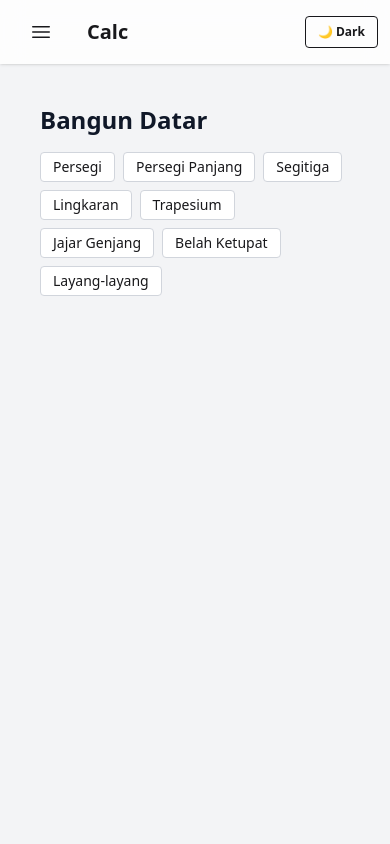
Test case: App › opens mobile drawer navigation and closes after selecting a page
Click the checkbox named "Buka menu": x=41, y=32 [12, 12, 70, 52]
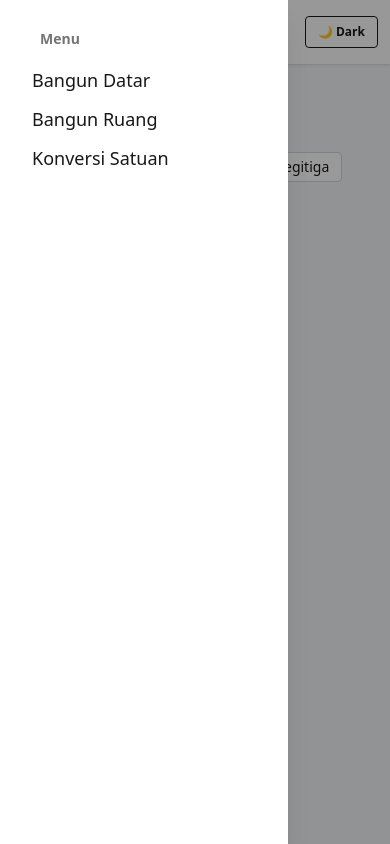
Now the checkbox with id "mobile-nav-drawer" is checked, box [12, 12, 70, 52]
Click the checkbox "Bangun Ruang": x=95, y=119 [32, 107, 158, 131]
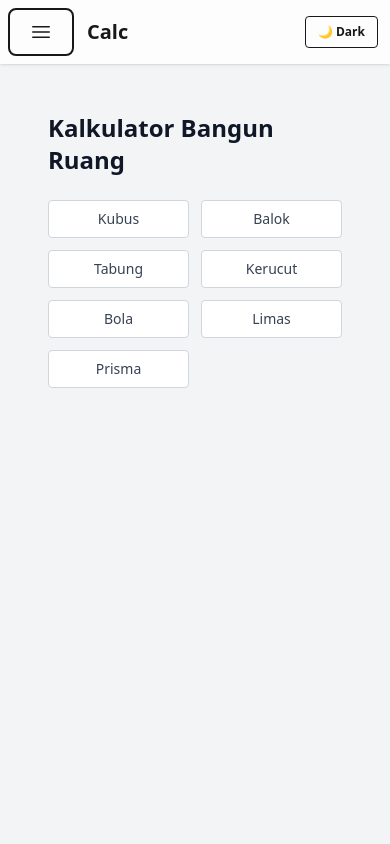
Now the checkbox with id "mobile-nav-drawer" is not checked, box [12, 12, 70, 52]
Now the heading "Kalkulator Bangun Ruang" is shown, box [48, 111, 274, 176]
